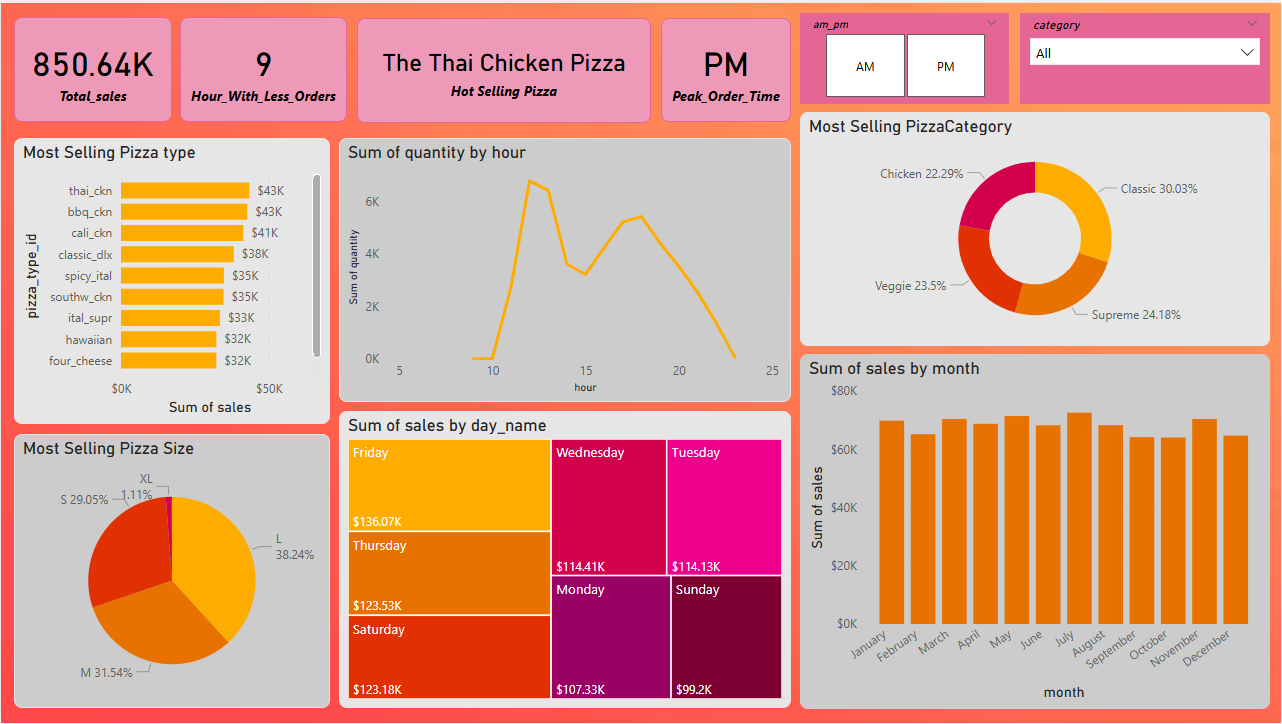

The dashboard page shown, as its layout file describes it:
{"tool":"powerbi","page":{"name":"Page 1","canvas":[1280,720],"ordinal":0},"visuals":[{"type":"donutChart","title":"Most Selling PizzaCategory","fields":{"Category":["pizzas_types_t.category"],"Y":["Sum(order_details_t.quantity)"]},"box":[798.9,108.9,470,234.4],"z":0},{"type":"barChart","title":"Most Selling Pizza type","fields":{"Category":["pizzas_t.pizza_type_id"],"Y":["Sum(order_details_t.sales)"]},"box":[12.6,135.2,316.1,286],"z":1000},{"type":"pieChart","title":"Most Selling Pizza Size","fields":{"Category":["pizzas_t.size"],"Y":["Sum(order_details_t.quantity)"]},"box":[12.6,430.9,316.1,274.3],"z":2000},{"type":"columnChart","fields":{"Category":["orders_t.month"],"Y":["Sum(order_details_t.sales)"]},"box":[798.9,351.1,470,354.4],"z":3000},{"type":"card","fields":{"Values":["order_details_t.Total_sales"]},"box":[12.6,13.6,158.5,105],"z":4000},{"type":"card","fields":{"Values":["orders_t.Peak_Order_Time"]},"box":[660.4,14.6,129.4,104.1],"z":5000},{"type":"card","fields":{"Values":["order_details_t.Hour_With_Less_Orders"]},"box":[179,13.6,167.3,105],"z":6000},{"type":"lineChart","fields":{"Category":["orders_t.hour"],"Y":["Sum(order_details_t.quantity)"]},"box":[338.5,135.2,451.3,263.6],"z":7000},{"type":"slicer","fields":{"Values":["orders_t.am_pm"]},"box":[798.9,10,208.9,91.1],"z":8000},{"type":"slicer","fields":{"Values":["pizzas_types_t.category"]},"box":[1018.9,10,250,91.1],"z":9000},{"type":"treemap","fields":{"Group":["orders_t.day_name"],"Values":["Sum(order_details_t.sales)"]},"box":[338.5,407.5,451.3,297.6],"z":10000},{"type":"card","fields":{"Values":["pizzas_types_t.Hot Selling Pizza"]},"box":[356,14.6,293.7,105],"z":11000}]}

Visuals, with their boxes in screenshot pixels (x1, y1, x2, y2), scaled from the page's 1280x720 canvas onto the 1282x724 screenshot:
"Most Selling PizzaCategory" donutChart: (x1=800, y1=110, x2=1271, y2=345)
"Most Selling Pizza type" barChart: (x1=13, y1=136, x2=329, y2=424)
"Most Selling Pizza Size" pieChart: (x1=13, y1=433, x2=329, y2=709)
columnChart - orders_t.month x Sum(order_details_t.sales): (x1=800, y1=353, x2=1271, y2=709)
card - order_details_t.Total_sales: (x1=13, y1=14, x2=171, y2=119)
card - orders_t.Peak_Order_Time: (x1=661, y1=15, x2=791, y2=119)
card - order_details_t.Hour_With_Less_Orders: (x1=179, y1=14, x2=347, y2=119)
lineChart - orders_t.hour x Sum(order_details_t.quantity): (x1=339, y1=136, x2=791, y2=401)
slicer - orders_t.am_pm: (x1=800, y1=10, x2=1009, y2=102)
slicer - pizzas_types_t.category: (x1=1020, y1=10, x2=1271, y2=102)
treemap - orders_t.day_name x Sum(order_details_t.sales): (x1=339, y1=410, x2=791, y2=709)
card - pizzas_types_t.Hot Selling Pizza: (x1=357, y1=15, x2=651, y2=120)
